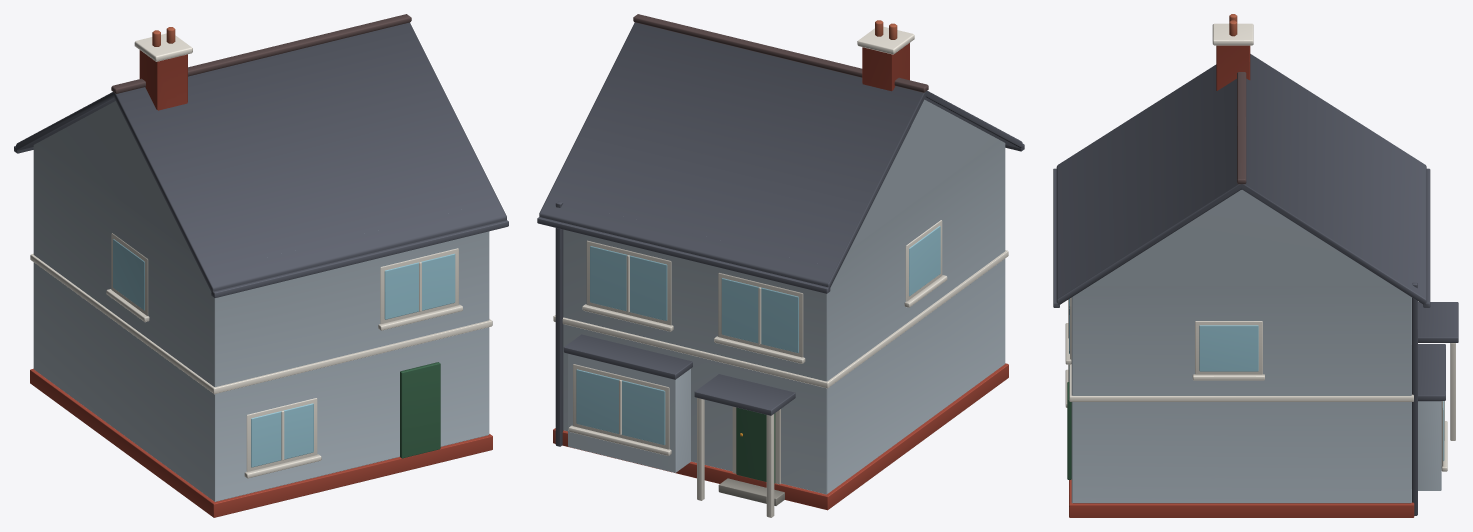
File: house_d.glb
3 views of the same model, side by side, from view 1: azimuth 30°, elevation 25°; view 2: azimuth 150°, elevation 25°; view 3: azimuth 270°, elevation 25° (orthographic). The views are drawn at different scales.
Parts seen in each view (by area): view 1: Body, Roof; view 2: Body, Roof; view 3: Body, Roof.
Boxes of the visible parts, <box> form: Body: <box>14,101,508,517</box>; Roof: <box>16,14,506,292</box>; Body: <box>537,99,1024,517</box>; Roof: <box>539,14,1022,288</box>; Body: <box>1053,168,1458,517</box>; Roof: <box>1056,14,1426,304</box>.
Size of the model in its own units: 7.54 by 10.1 by 9.53.
1 material, 1 textured.
